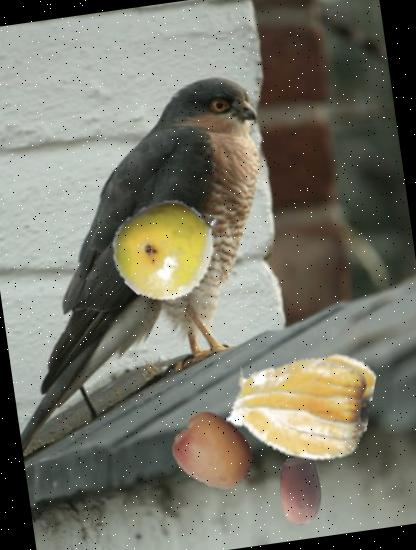Apricot: (168, 404, 262, 498)
Hazelnut: (260, 453, 340, 532)
Maracuja: (106, 188, 228, 310)
Physalis: (222, 324, 380, 482)
